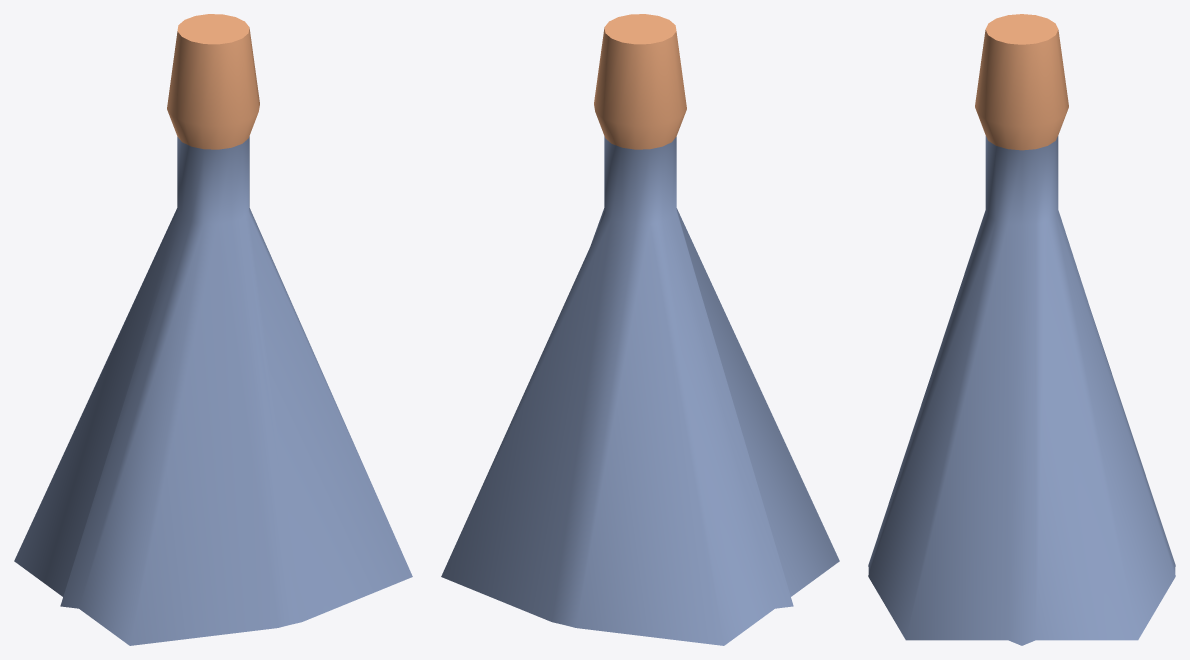
Rendered from BAR_LiqourBottle01_Body.fbx.
3 views of the same model, side by side, from view 1: azimuth 30°, elevation 25°; view 2: azimuth 150°, elevation 25°; view 3: azimuth 270°, elevation 25° (orthographic).
Visible parts, largest first — view 1: Bottle01_Body; view 2: Bottle01_Body; view 3: Bottle01_Body.
Boxes of the visible parts, box(x1,y1,x2,y2) form: Bottle01_Body: box(14, 14, 412, 645); Bottle01_Body: box(441, 14, 839, 645); Bottle01_Body: box(868, 14, 1175, 645).
Bounding box in the file's own units: 13.23 × 22.26 × 11.45.
